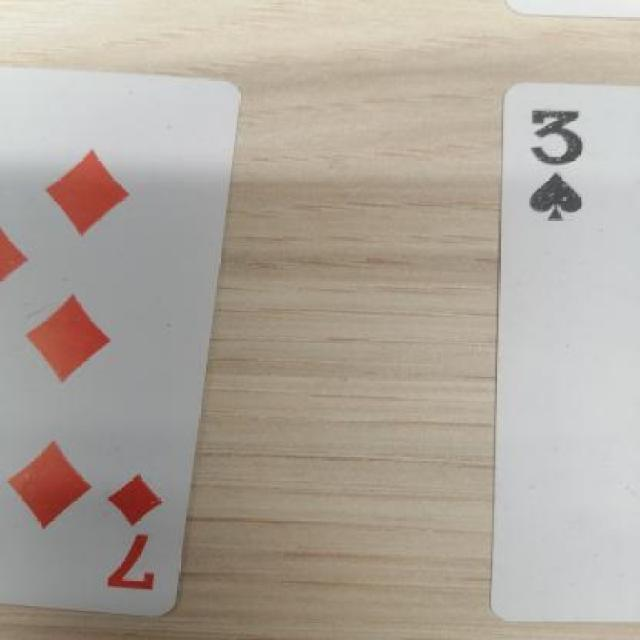3S: (518, 77, 594, 231)
7D: (88, 458, 197, 612)
